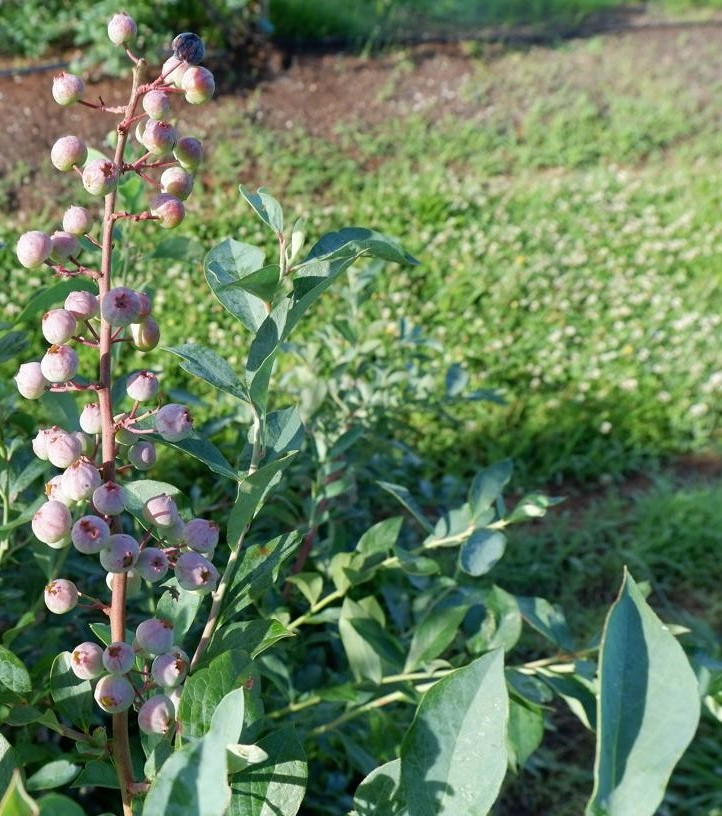Immature: (61, 460, 102, 501), (32, 500, 71, 543), (94, 674, 135, 714), (101, 287, 140, 328), (99, 534, 140, 573), (174, 551, 214, 590), (138, 695, 176, 735), (72, 516, 110, 555), (136, 617, 175, 655), (41, 344, 79, 382), (156, 404, 194, 442), (15, 362, 52, 400), (83, 158, 119, 197), (186, 558, 222, 596), (181, 518, 220, 553), (51, 136, 87, 172), (32, 424, 67, 461), (70, 642, 105, 679), (142, 120, 178, 155), (125, 315, 160, 351), (44, 578, 79, 614), (151, 192, 185, 229), (17, 232, 51, 269), (143, 493, 178, 528), (151, 654, 187, 688), (182, 66, 214, 104), (52, 71, 86, 106), (42, 309, 76, 344), (46, 433, 80, 468), (105, 565, 142, 597), (160, 166, 194, 200), (93, 481, 127, 515), (102, 642, 136, 676), (135, 547, 168, 582), (108, 8, 137, 47), (48, 231, 82, 263), (162, 56, 195, 88), (127, 368, 158, 402), (44, 475, 73, 510), (173, 136, 203, 169), (65, 291, 97, 321), (63, 205, 93, 235), (113, 413, 140, 445), (128, 441, 157, 470), (161, 645, 190, 674), (143, 90, 171, 120), (157, 516, 186, 544), (80, 402, 102, 435), (179, 542, 214, 562), (71, 430, 94, 458), (132, 637, 159, 660), (45, 530, 72, 549), (135, 291, 152, 316), (136, 117, 149, 145), (146, 118, 160, 127)
Mature: (172, 33, 205, 65)
